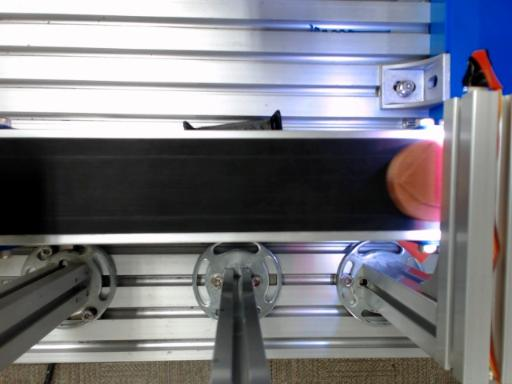Brown_Waper: (387, 141, 442, 221)
